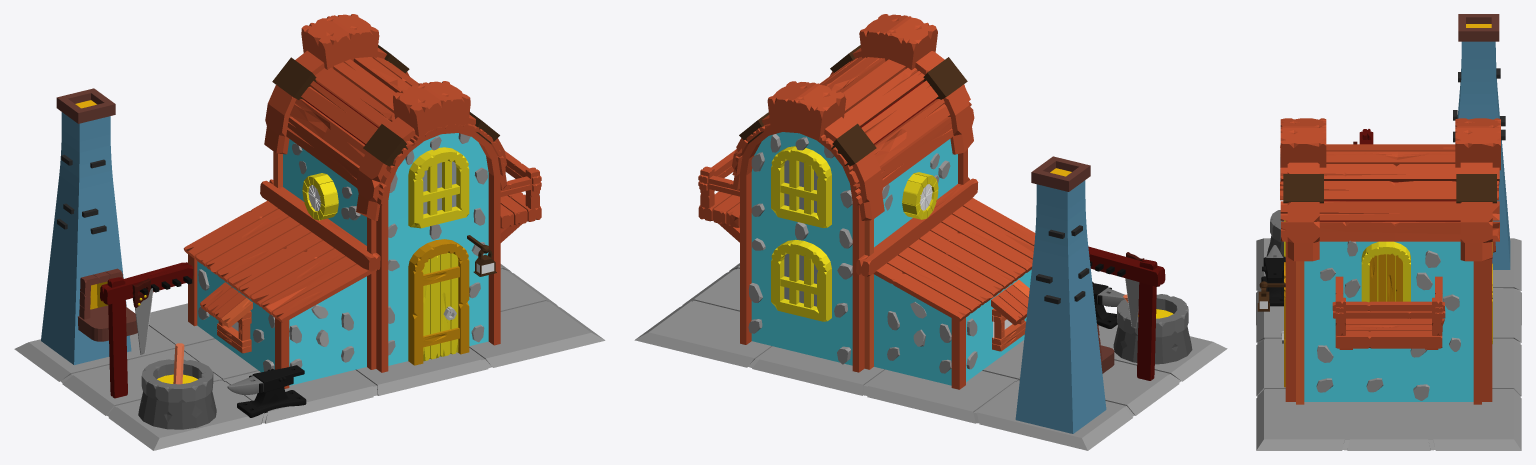
File: Ferraria_HUB.fbx
The picture shows the model from 3 angles, left to right: view 1: azimuth 30°, elevation 25°; view 2: azimuth 150°, elevation 25°; view 3: azimuth 270°, elevation 25°; orthographic projection. The views are drawn at different scales.
Parts seen in each view (by area): view 1: Ferraria, Forno, Caldeirao, Suporte-ferramentas, Bigorna_Superior, Serrote, Bigorna_base; view 2: Ferraria, Forno, Suporte-ferramentas, Caldeirao, Bigorna_Superior, Serrote; view 3: Ferraria, Forno, Bigorna_Superior, Caldeirao.
Boxes of the visible parts, x1,y1,x2,y2 form: Ferraria: (14, 14, 605, 450); Forno: (41, 88, 137, 365); Caldeirao: (138, 343, 216, 429); Suporte-ferramentas: (100, 262, 193, 398); Bigorna_Superior: (227, 365, 304, 407); Serrote: (132, 278, 153, 355); Bigorna_base: (237, 390, 306, 417); Ferraria: (634, 14, 1227, 450); Forno: (1015, 156, 1114, 433); Suporte-ferramentas: (1088, 246, 1165, 380); Caldeirao: (1113, 294, 1192, 364); Bigorna_Superior: (1092, 283, 1124, 319); Serrote: (1125, 252, 1144, 328); Ferraria: (1256, 118, 1521, 450); Forno: (1453, 14, 1510, 269); Bigorna_Superior: (1264, 245, 1285, 297); Caldeirao: (1266, 210, 1285, 257).
Bounding box in the file's own units: 950 × 536 × 507.
